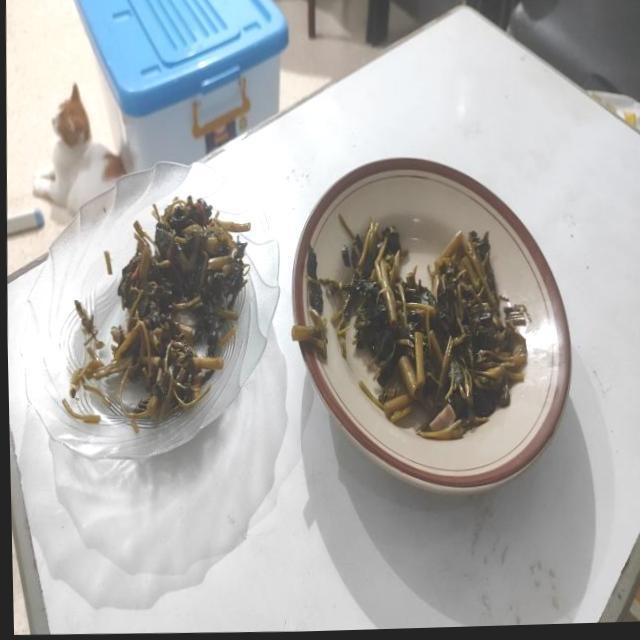tumis_kangkung: (318, 213, 527, 439), (110, 196, 250, 419)
